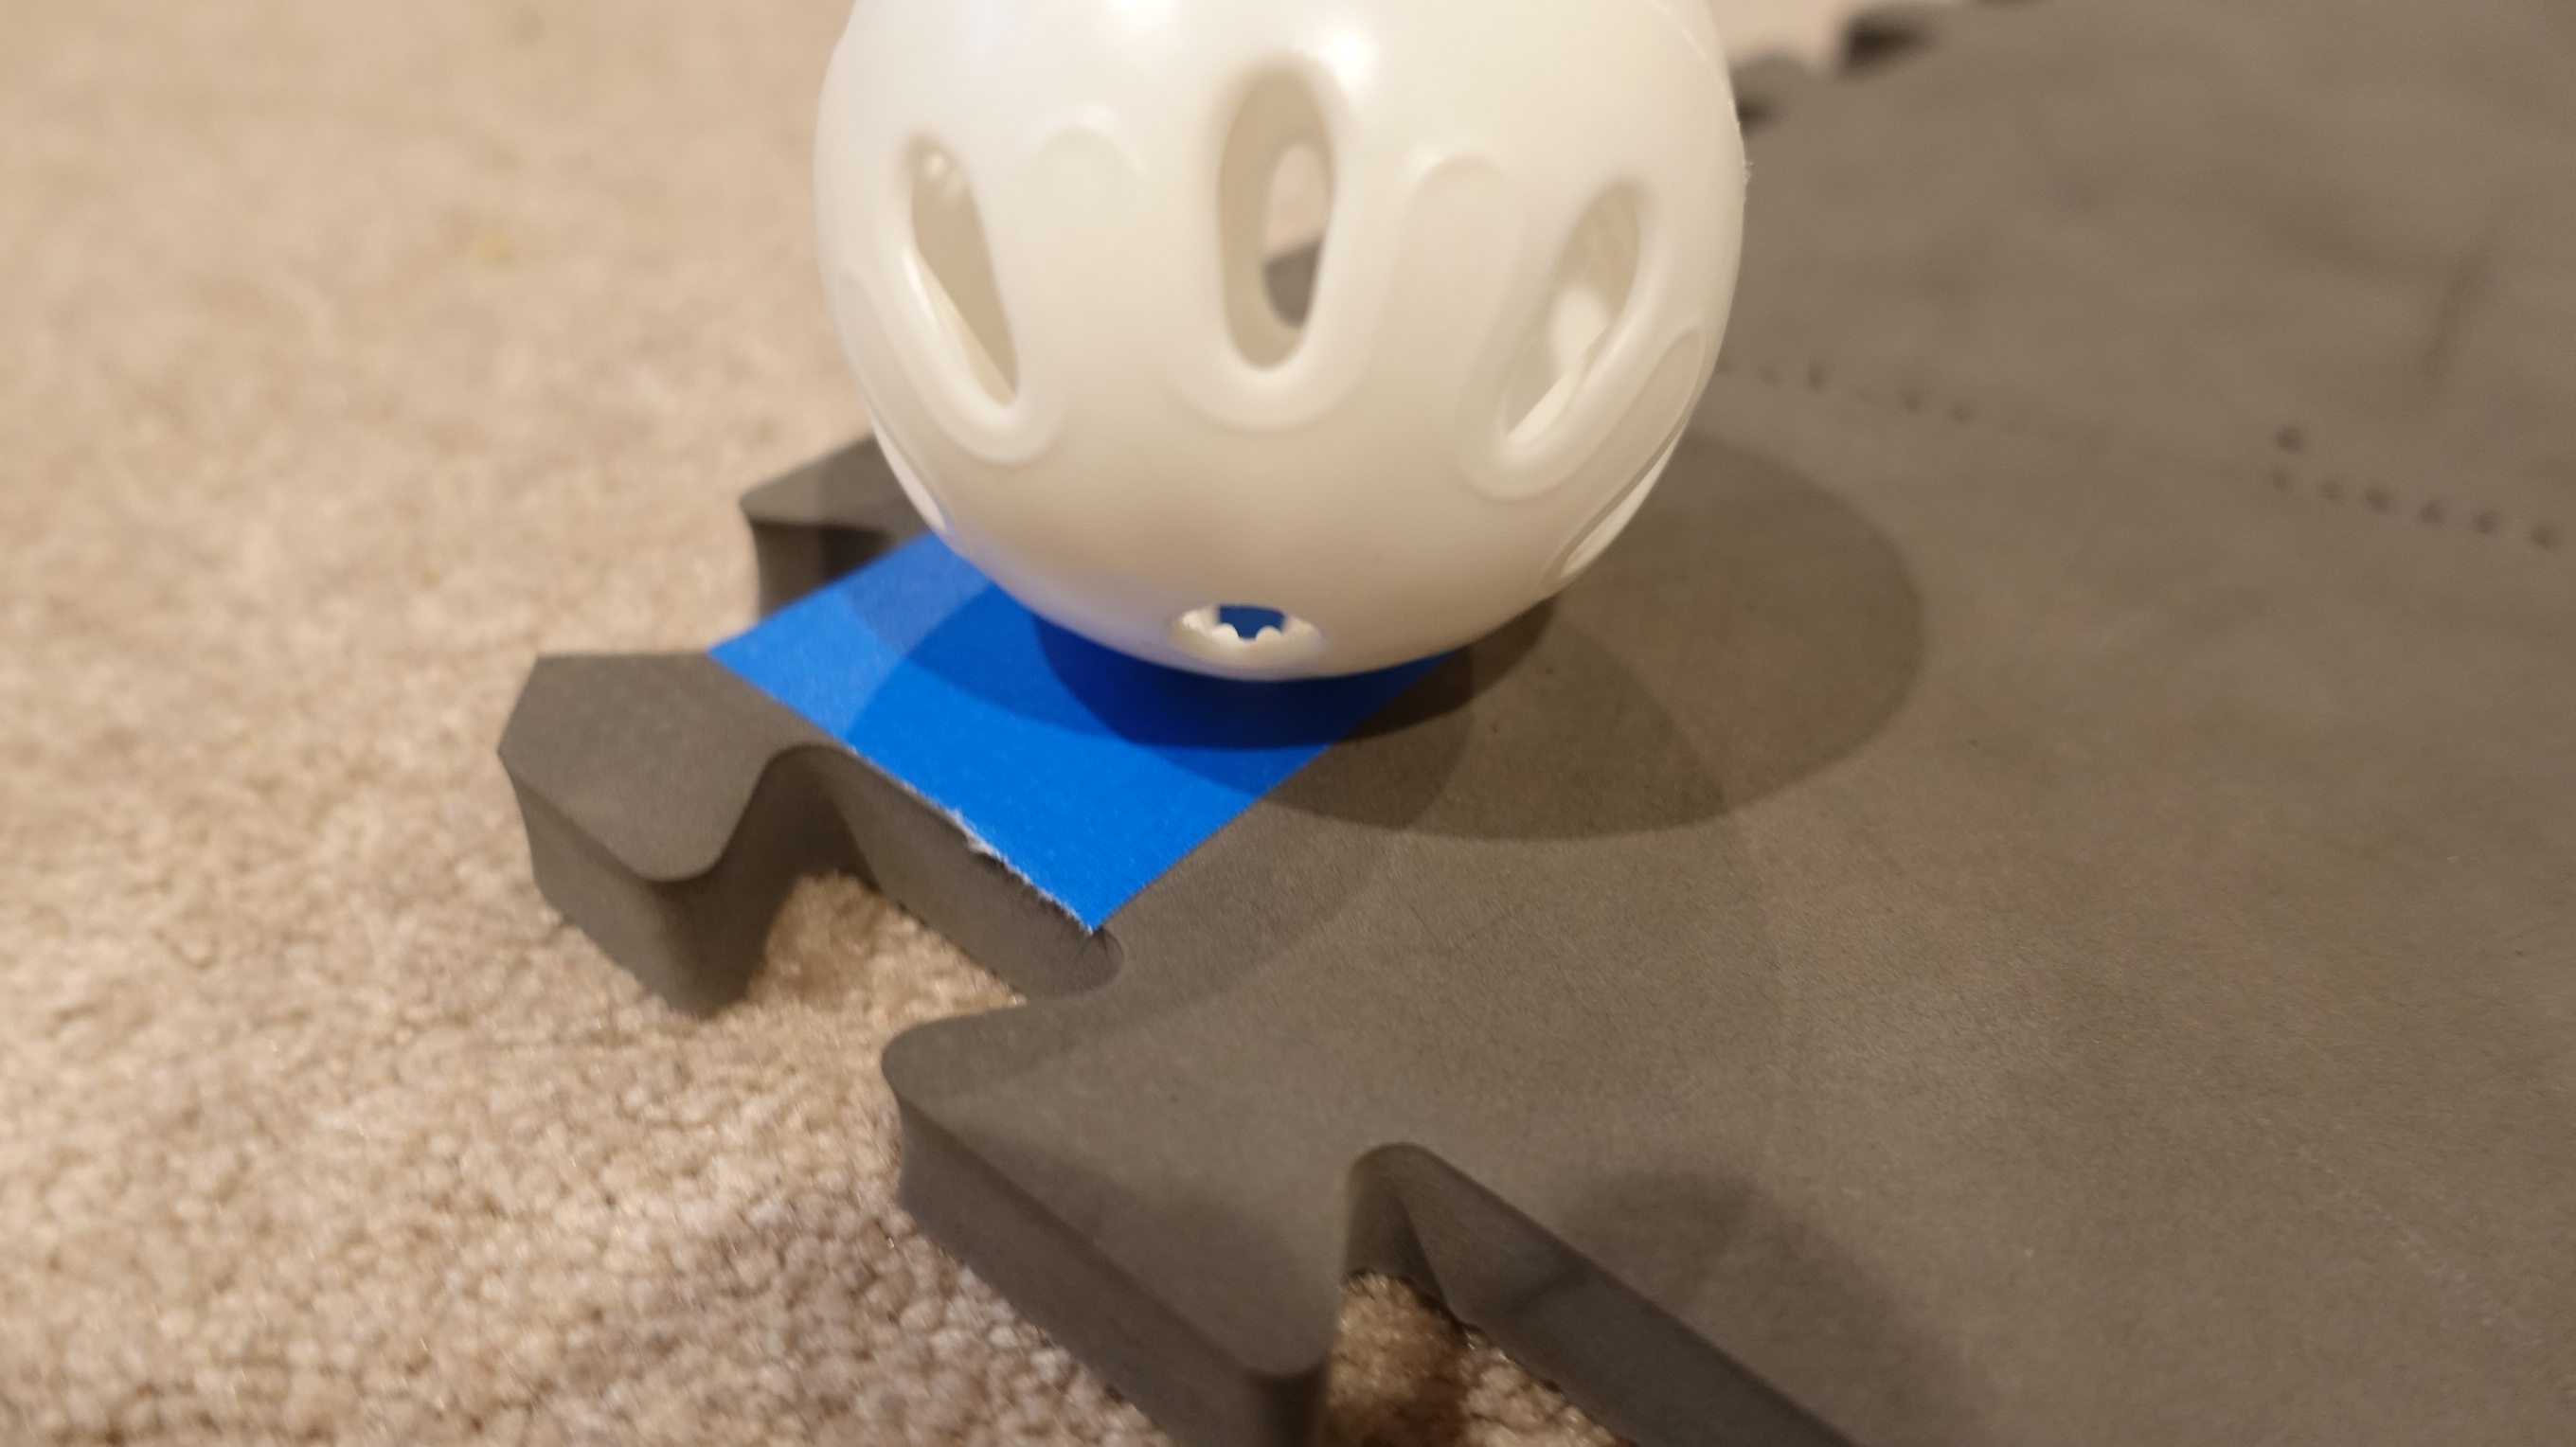silver: (812, 2, 1759, 688)
